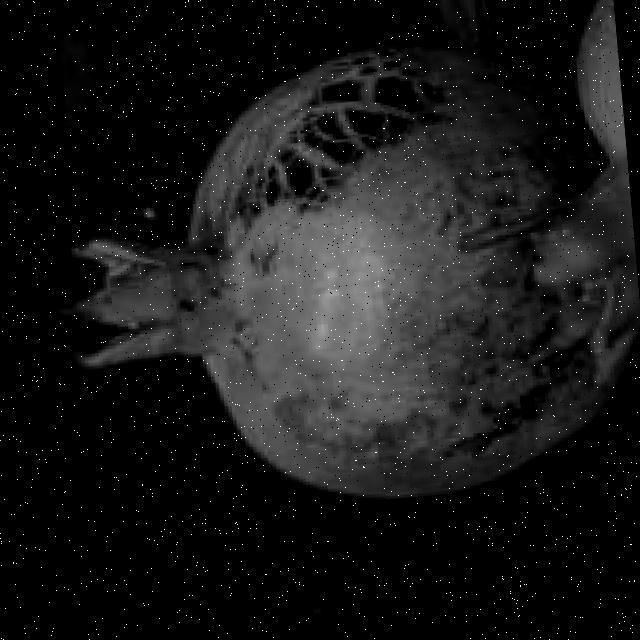overripe: (39, 15, 640, 536)
